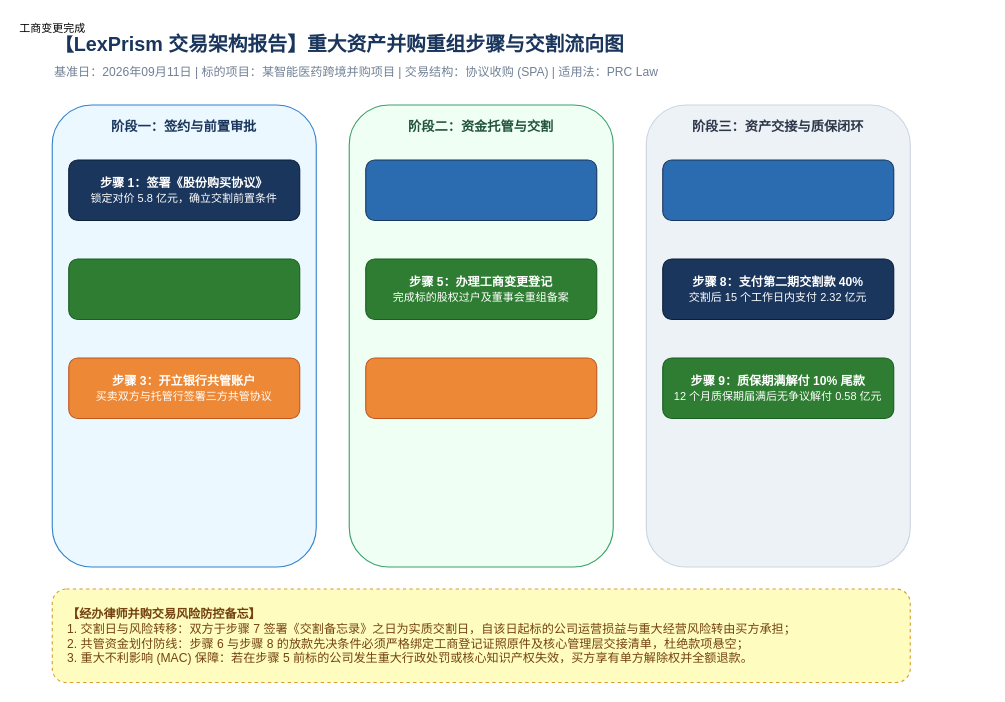
Image size: 1005x702. Some labels were removed from this diagram. Here are the shapes that lost their labels. From the top down, the centre of each, then its label:
At (481,190): "步骤 4：支付首期款至共管户 买方存入 50% 首期对价 (2.9 亿元)".
At (778,190): "步骤 7：标的公司资产与印章移交 双方签署《交割备忘录》完成控制权接管".
At (184,289): "步骤 2：反垄断审查申报 取得市监总局不予进一步审查决定书".
At (481,388): "步骤 6：共管账户首期解付 凭新营业执照解付 2.9 亿元至卖方".
